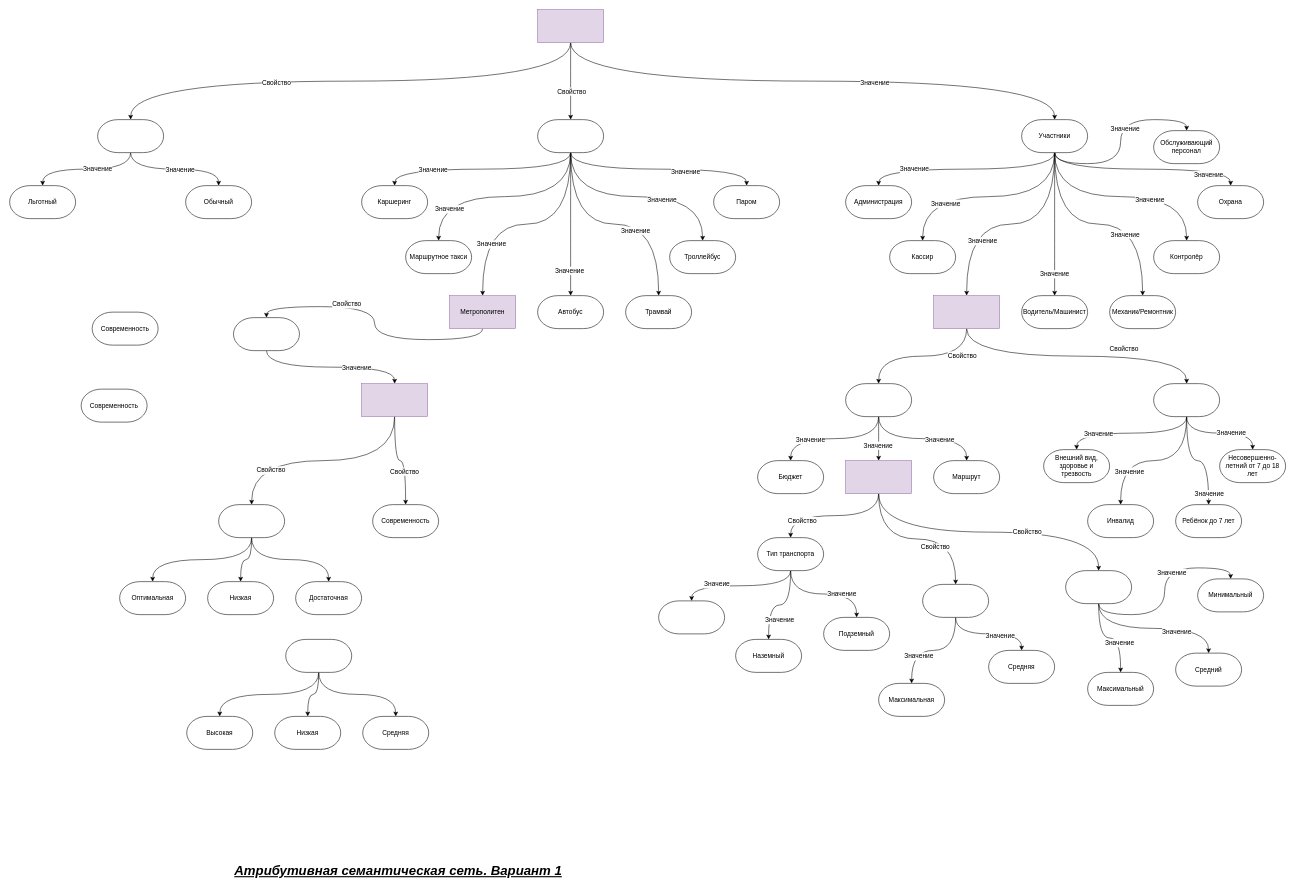
Image size: 1295x889. Some labels were removed from this diagram. The shapes that lost their labels are listed below. From the top down, each one's centre as x and y in pixels, then its label:
At pixel 570 26: "Городской транспорт".
At pixel 130 136: "Тариф".
At pixel 570 136: "Вид".
At pixel 966 312: "Пассажир".
At pixel 266 334: "Составляющие".
At pixel 394 400: "Вагон".
At pixel 878 400: "Требования и предпочтения".
At pixel 1186 400: "Физические и правовые возможности".
At pixel 878 477: "Вкус".
At pixel 251 521: "Вметимость".
At pixel 955 600: "Скорость передвижения".
At pixel 1098 587: "Комфорт передвижения".
At pixel 691 617: "Водный".
At pixel 318 655: "Безопасность".
